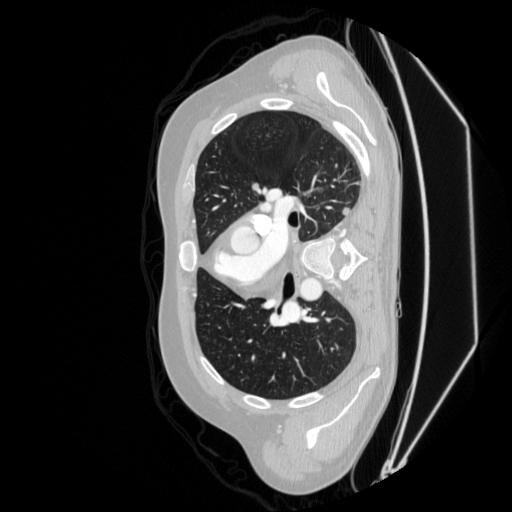nodule: (339, 204, 352, 217)
